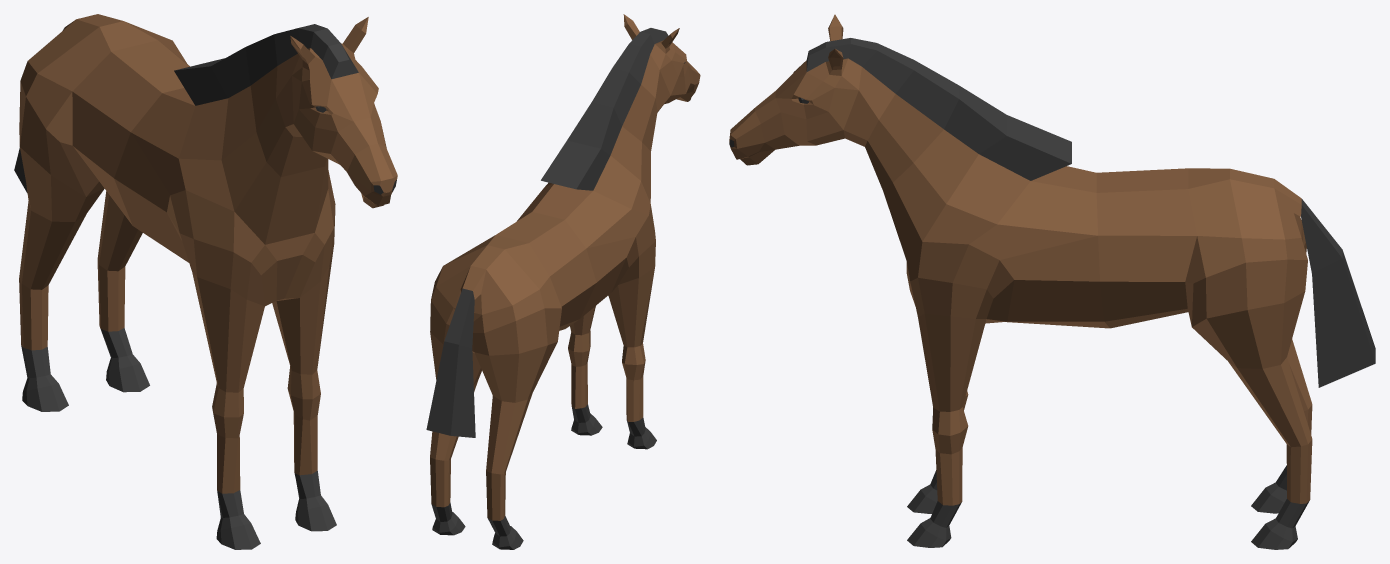
The model's file is horse.fbx.
3 renders of one model, left to right at view 1: azimuth 30°, elevation 25°; view 2: azimuth 150°, elevation 25°; view 3: azimuth 270°, elevation 25°, orthographic. The views are drawn at different scales.
Visible parts, largest first — view 1: horse_01; view 2: horse_01; view 3: horse_01.
Part boxes in pixels (box(x1,y1,x2,y2)): horse_01: box(14, 14, 397, 549); horse_01: box(426, 14, 700, 549); horse_01: box(729, 14, 1375, 549).
Bounding box in the file's own units: 0.6472 × 2.44 × 2.05.
